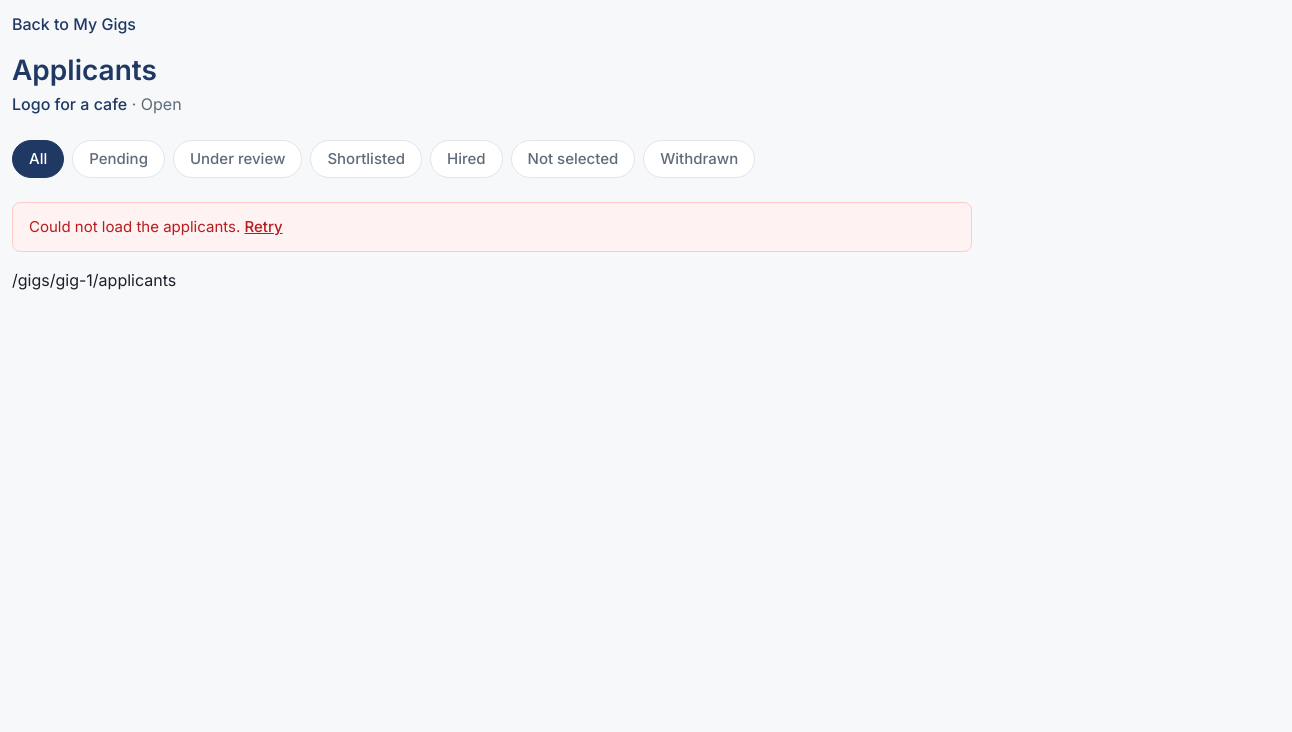
it: GigApplicants page › shows an error with Retry
Expected: the text "Could not load the applicants. Retry" is shown, x1=12 y1=202 x2=972 y2=252
Click the button "Retry" at (264, 227), box x1=244 y1=215 x2=283 y2=239
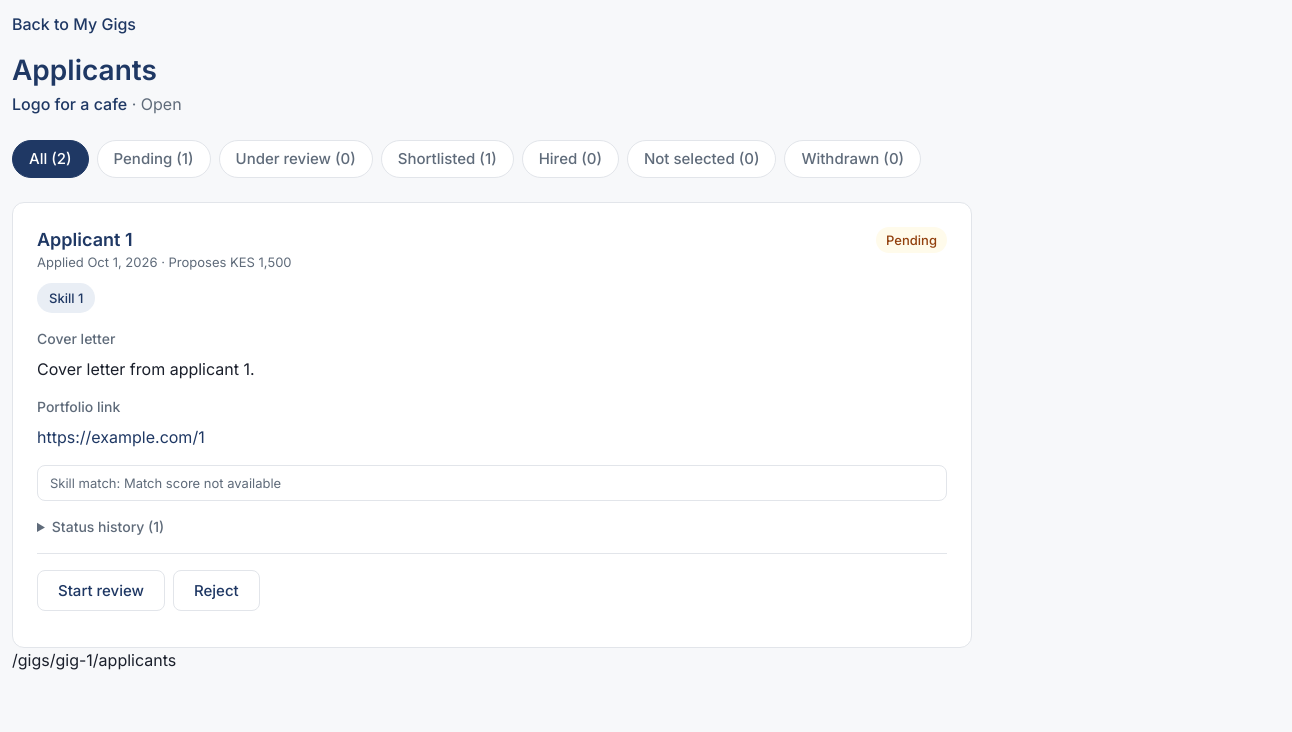
Now the link "Applicant 1" is shown, box x1=37 y1=227 x2=132 y2=253
